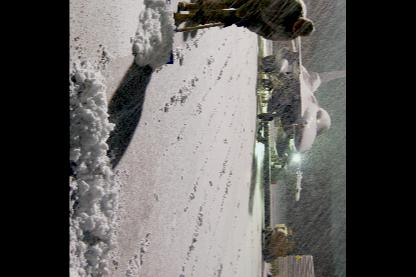F14: (257, 0, 346, 201)
